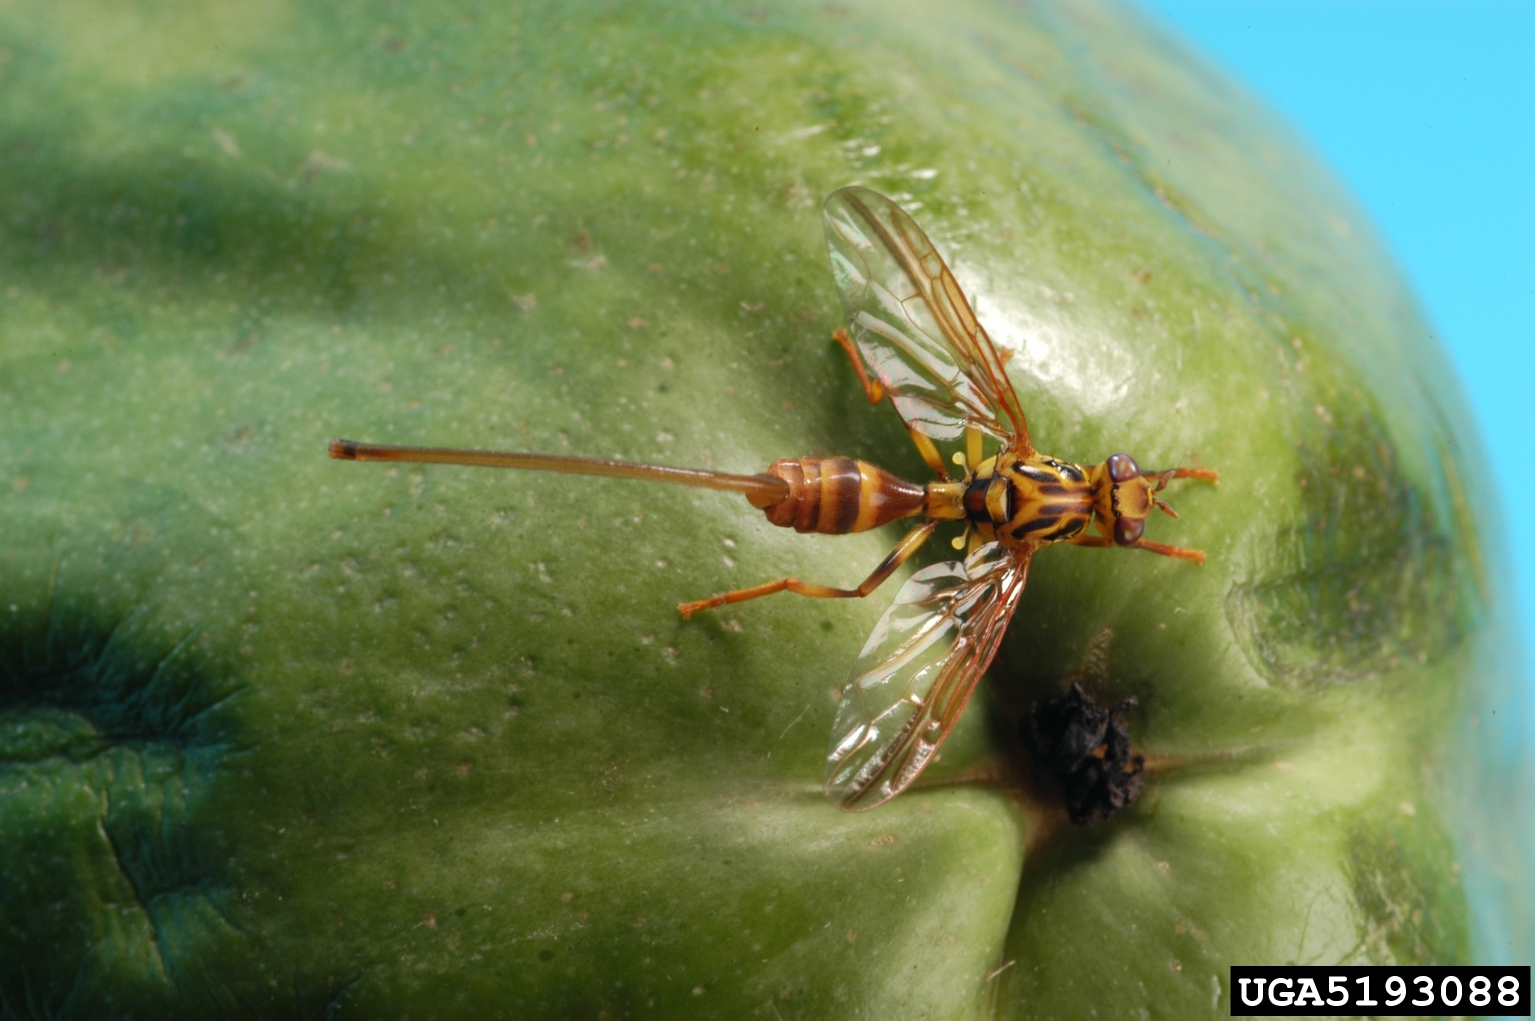Fruit fly: (318, 188, 1213, 815)
